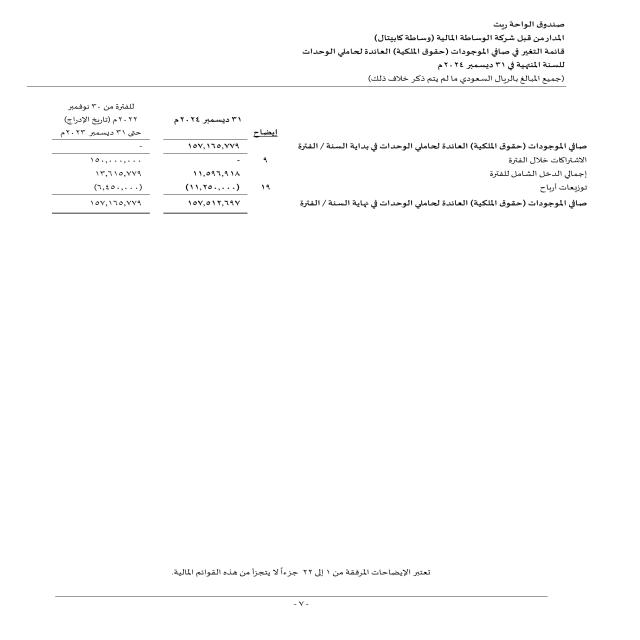financial_sheets: (291, 44, 568, 59)
table: (11, 101, 284, 262)
